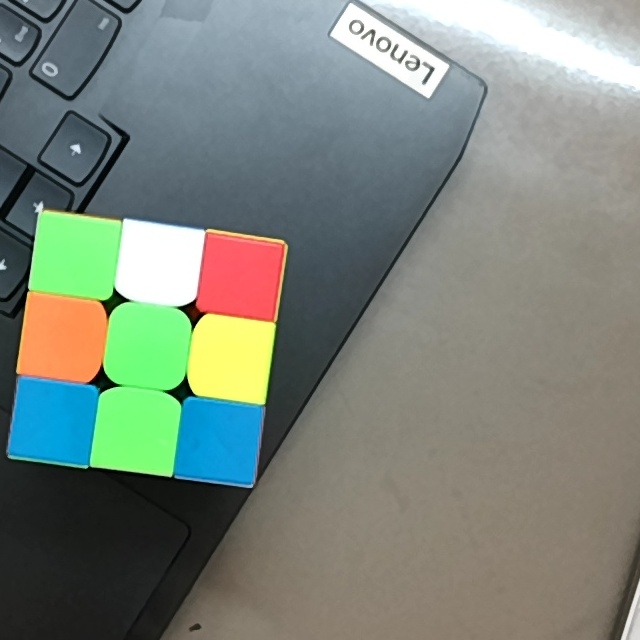tile: (26, 305, 98, 372), (40, 222, 108, 287), (189, 408, 254, 474), (114, 315, 181, 378), (104, 399, 168, 463), (20, 389, 88, 449), (210, 244, 274, 305), (201, 326, 263, 388), (128, 232, 189, 294)
